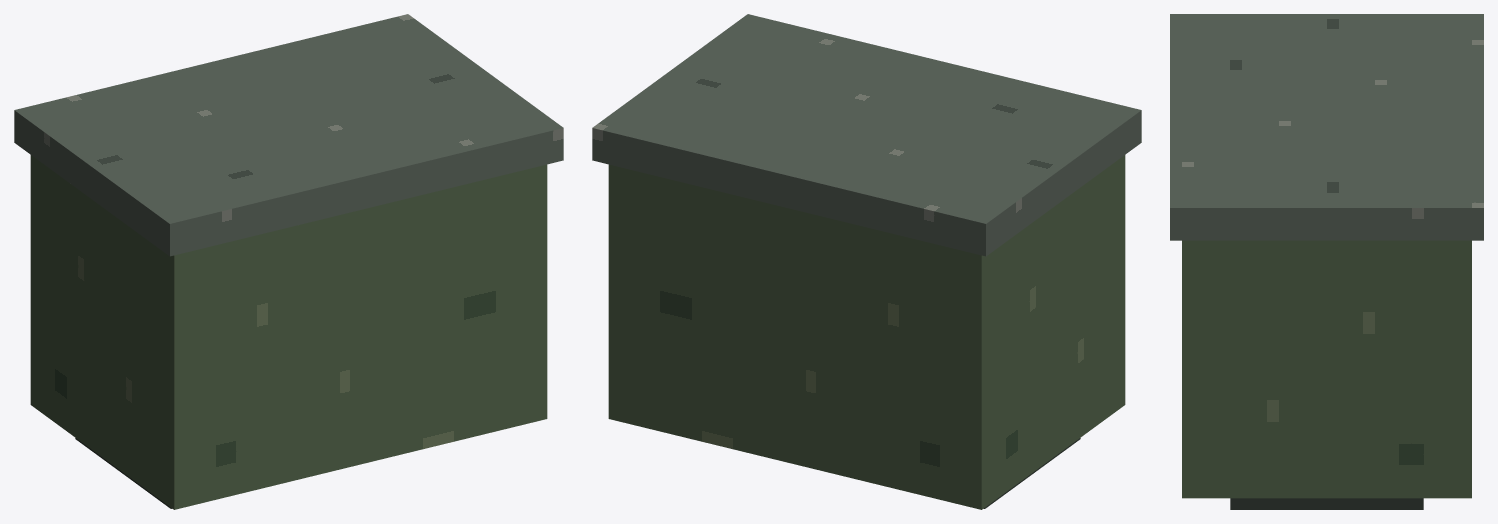
The model's file is dumpster.gltf.
3 renders of one model, left to right at view 1: azimuth 30°, elevation 25°; view 2: azimuth 150°, elevation 25°; view 3: azimuth 270°, elevation 25°, orthographic.
Parts seen in each view (by area): view 1: bin, lid; view 2: bin, lid; view 3: bin, lid, wheel.
Boxes of the visible parts, x1,y1,x2,y2 form: bin: (30, 155, 547, 509); lid: (14, 14, 563, 256); bin: (608, 155, 1125, 509); lid: (592, 14, 1141, 256); bin: (1182, 240, 1471, 498); lid: (1170, 14, 1483, 240); wheel: (1230, 498, 1423, 509).
Bounding box in the file's own units: 2.38 × 1.81 × 1.62.
Materials: 3 (3 with a texture image).
